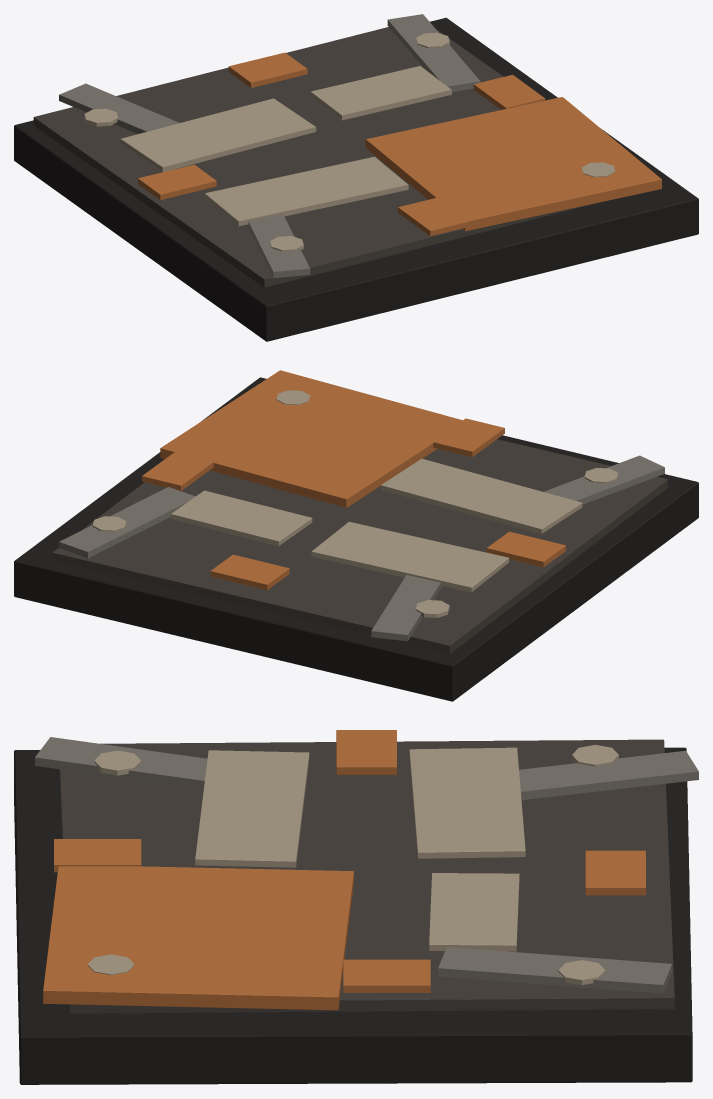
File: floor_module__intact.glb
The picture shows the model from 3 angles, top to bottom: view 1: azimuth 30°, elevation 25°; view 2: azimuth 150°, elevation 25°; view 3: azimuth 270°, elevation 25°; orthographic projection. The views are drawn at different scales.
Parts seen in each view (by area): view 1: ROLE_primary, ROLE_rubber, ROLE_accent, ROLE_secondary, ROLE_bareMetal; view 2: ROLE_primary, ROLE_rubber, ROLE_accent, ROLE_secondary, ROLE_bareMetal; view 3: ROLE_primary, ROLE_rubber, ROLE_accent, ROLE_secondary, ROLE_bareMetal.
Boxes of the visible parts, <box> form: ROLE_primary: <box>33,27,604,287</box>; ROLE_rubber: <box>14,17,698,341</box>; ROLE_accent: <box>138,52,661,236</box>; ROLE_secondary: <box>84,32,615,251</box>; ROLE_bareMetal: <box>59,14,480,277</box>; ROLE_primary: <box>52,439,667,654</box>; ROLE_rubber: <box>14,377,698,701</box>; ROLE_accent: <box>142,370,565,590</box>; ROLE_secondary: <box>92,390,618,617</box>; ROLE_bareMetal: <box>59,455,664,641</box>; ROLE_primary: <box>59,739,674,1013</box>; ROLE_rubber: <box>14,747,692,1084</box>; ROLE_accent: <box>43,730,645,1010</box>; ROLE_secondary: <box>87,745,618,984</box>; ROLE_bareMetal: <box>35,737,698,993</box>.
Size of the model in its own units: 4 by 0.5 by 4.
